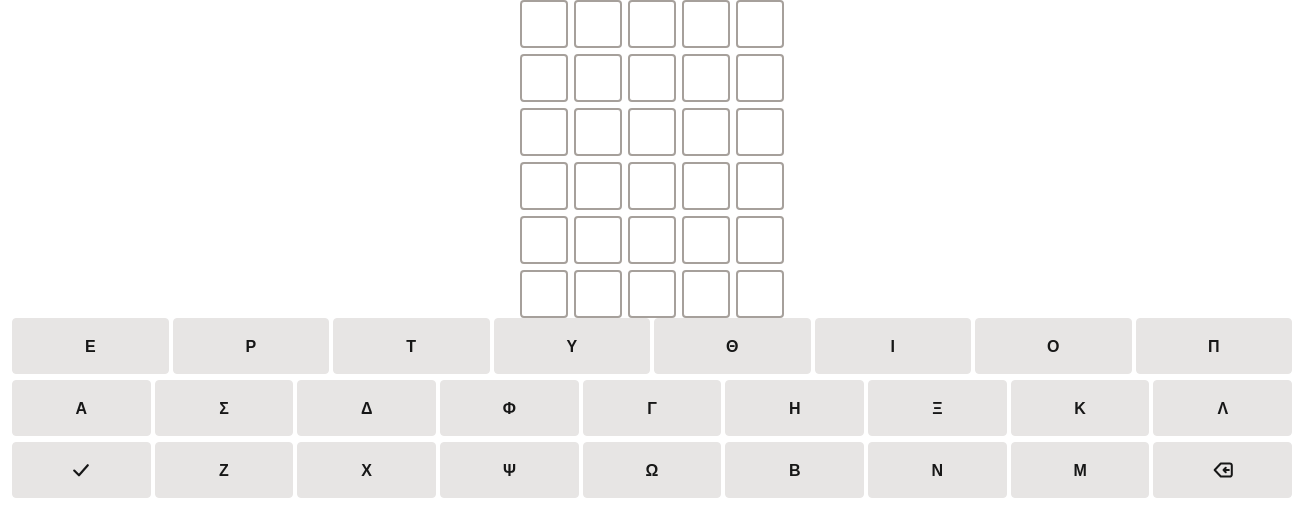
on-screen keyboard — letter key › clicking a letter key adds a pending tile for that letter to the guess row
The width and height of the screenshot is (1304, 515).
What coordinates should you click on to do the following:
click the button with test id "key-α"
I would click on:
 (81, 408)
Its box is [12, 380, 151, 436].
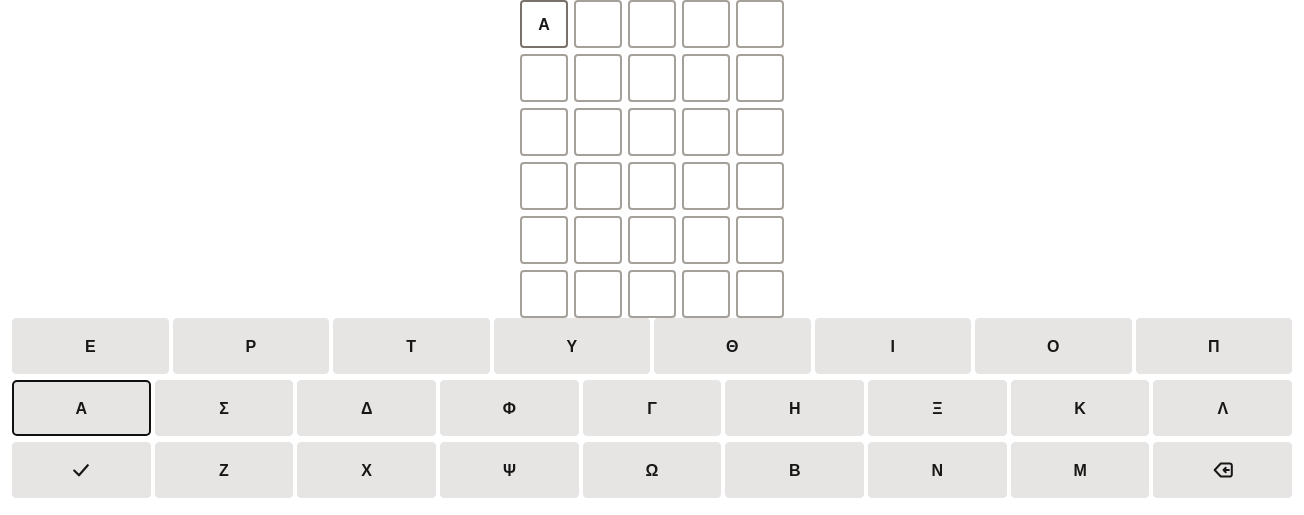
Expected: the text named "Α pending" is shown, [520, 0, 568, 48]
